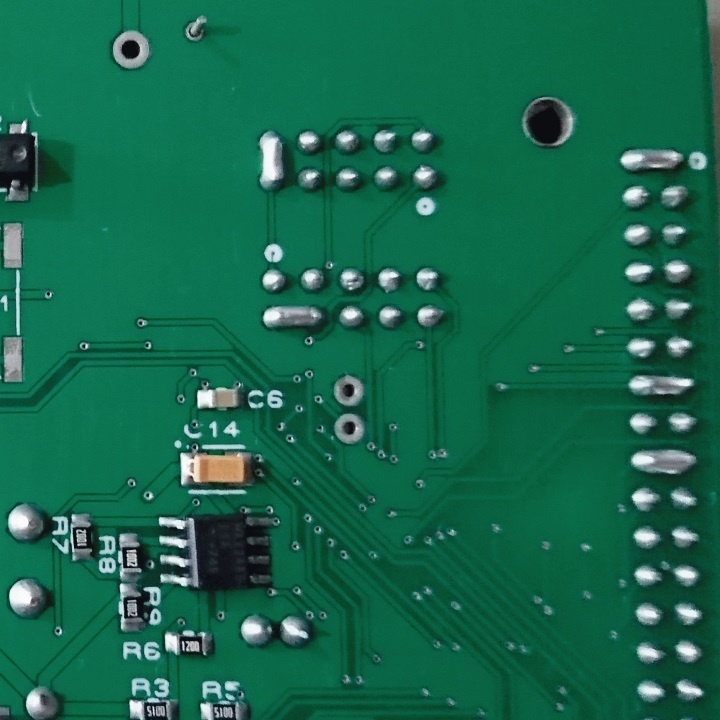F: (108, 24, 153, 72), (330, 410, 370, 452), (330, 370, 367, 408), (183, 10, 211, 50)
P: (625, 369, 699, 403), (630, 444, 698, 480), (256, 126, 287, 195), (261, 300, 326, 332), (616, 146, 687, 175)
